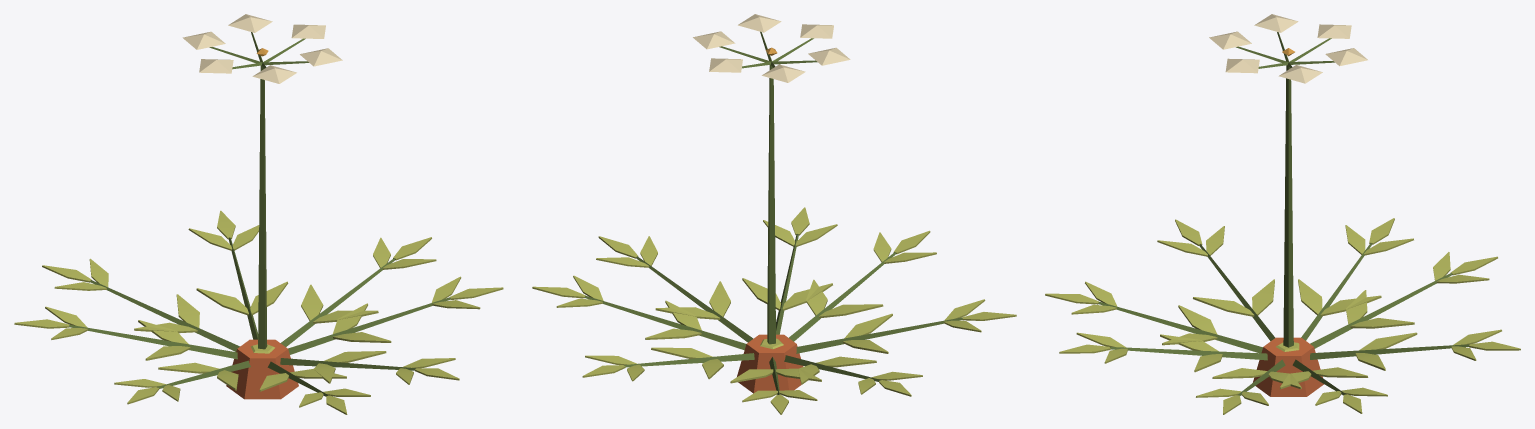
The model's file is crop_carrot_overripe.glb.
3 renders of one model, left to right at view 1: azimuth 30°, elevation 25°; view 2: azimuth 150°, elevation 25°; view 3: azimuth 270°, elevation 25°, orthographic.
Parts seen in each view (by area): view 1: carrot_crown_overripe_neck, carrot_frond_overripe_00_rachis, carrot_umbel_floret_0, carrot_crown_overripe_root; view 2: carrot_crown_overripe_neck, carrot_frond_overripe_00_rachis, carrot_umbel_floret_0, carrot_crown_overripe_root; view 3: carrot_crown_overripe_neck, carrot_frond_overripe_00_rachis, carrot_umbel_floret_0, carrot_crown_overripe_root.
Boxes of the visible parts, x1,y1,x2,y2 form: carrot_crown_overripe_neck: [14, 210, 503, 414]; carrot_frond_overripe_00_rachis: [69, 32, 450, 396]; carrot_umbel_floret_0: [182, 14, 342, 83]; carrot_crown_overripe_root: [226, 339, 298, 399]; carrot_crown_overripe_neck: [532, 207, 1016, 414]; carrot_frond_overripe_00_rachis: [584, 31, 962, 394]; carrot_umbel_floret_0: [693, 14, 850, 82]; carrot_crown_overripe_root: [737, 334, 803, 393]; carrot_crown_overripe_neck: [1045, 218, 1520, 414]; carrot_frond_overripe_00_rachis: [1098, 32, 1469, 395]; carrot_umbel_floret_0: [1209, 14, 1367, 83]; carrot_crown_overripe_root: [1253, 337, 1323, 396].
Size of the model in its own units: 0.7926 by 0.645 by 0.815.
